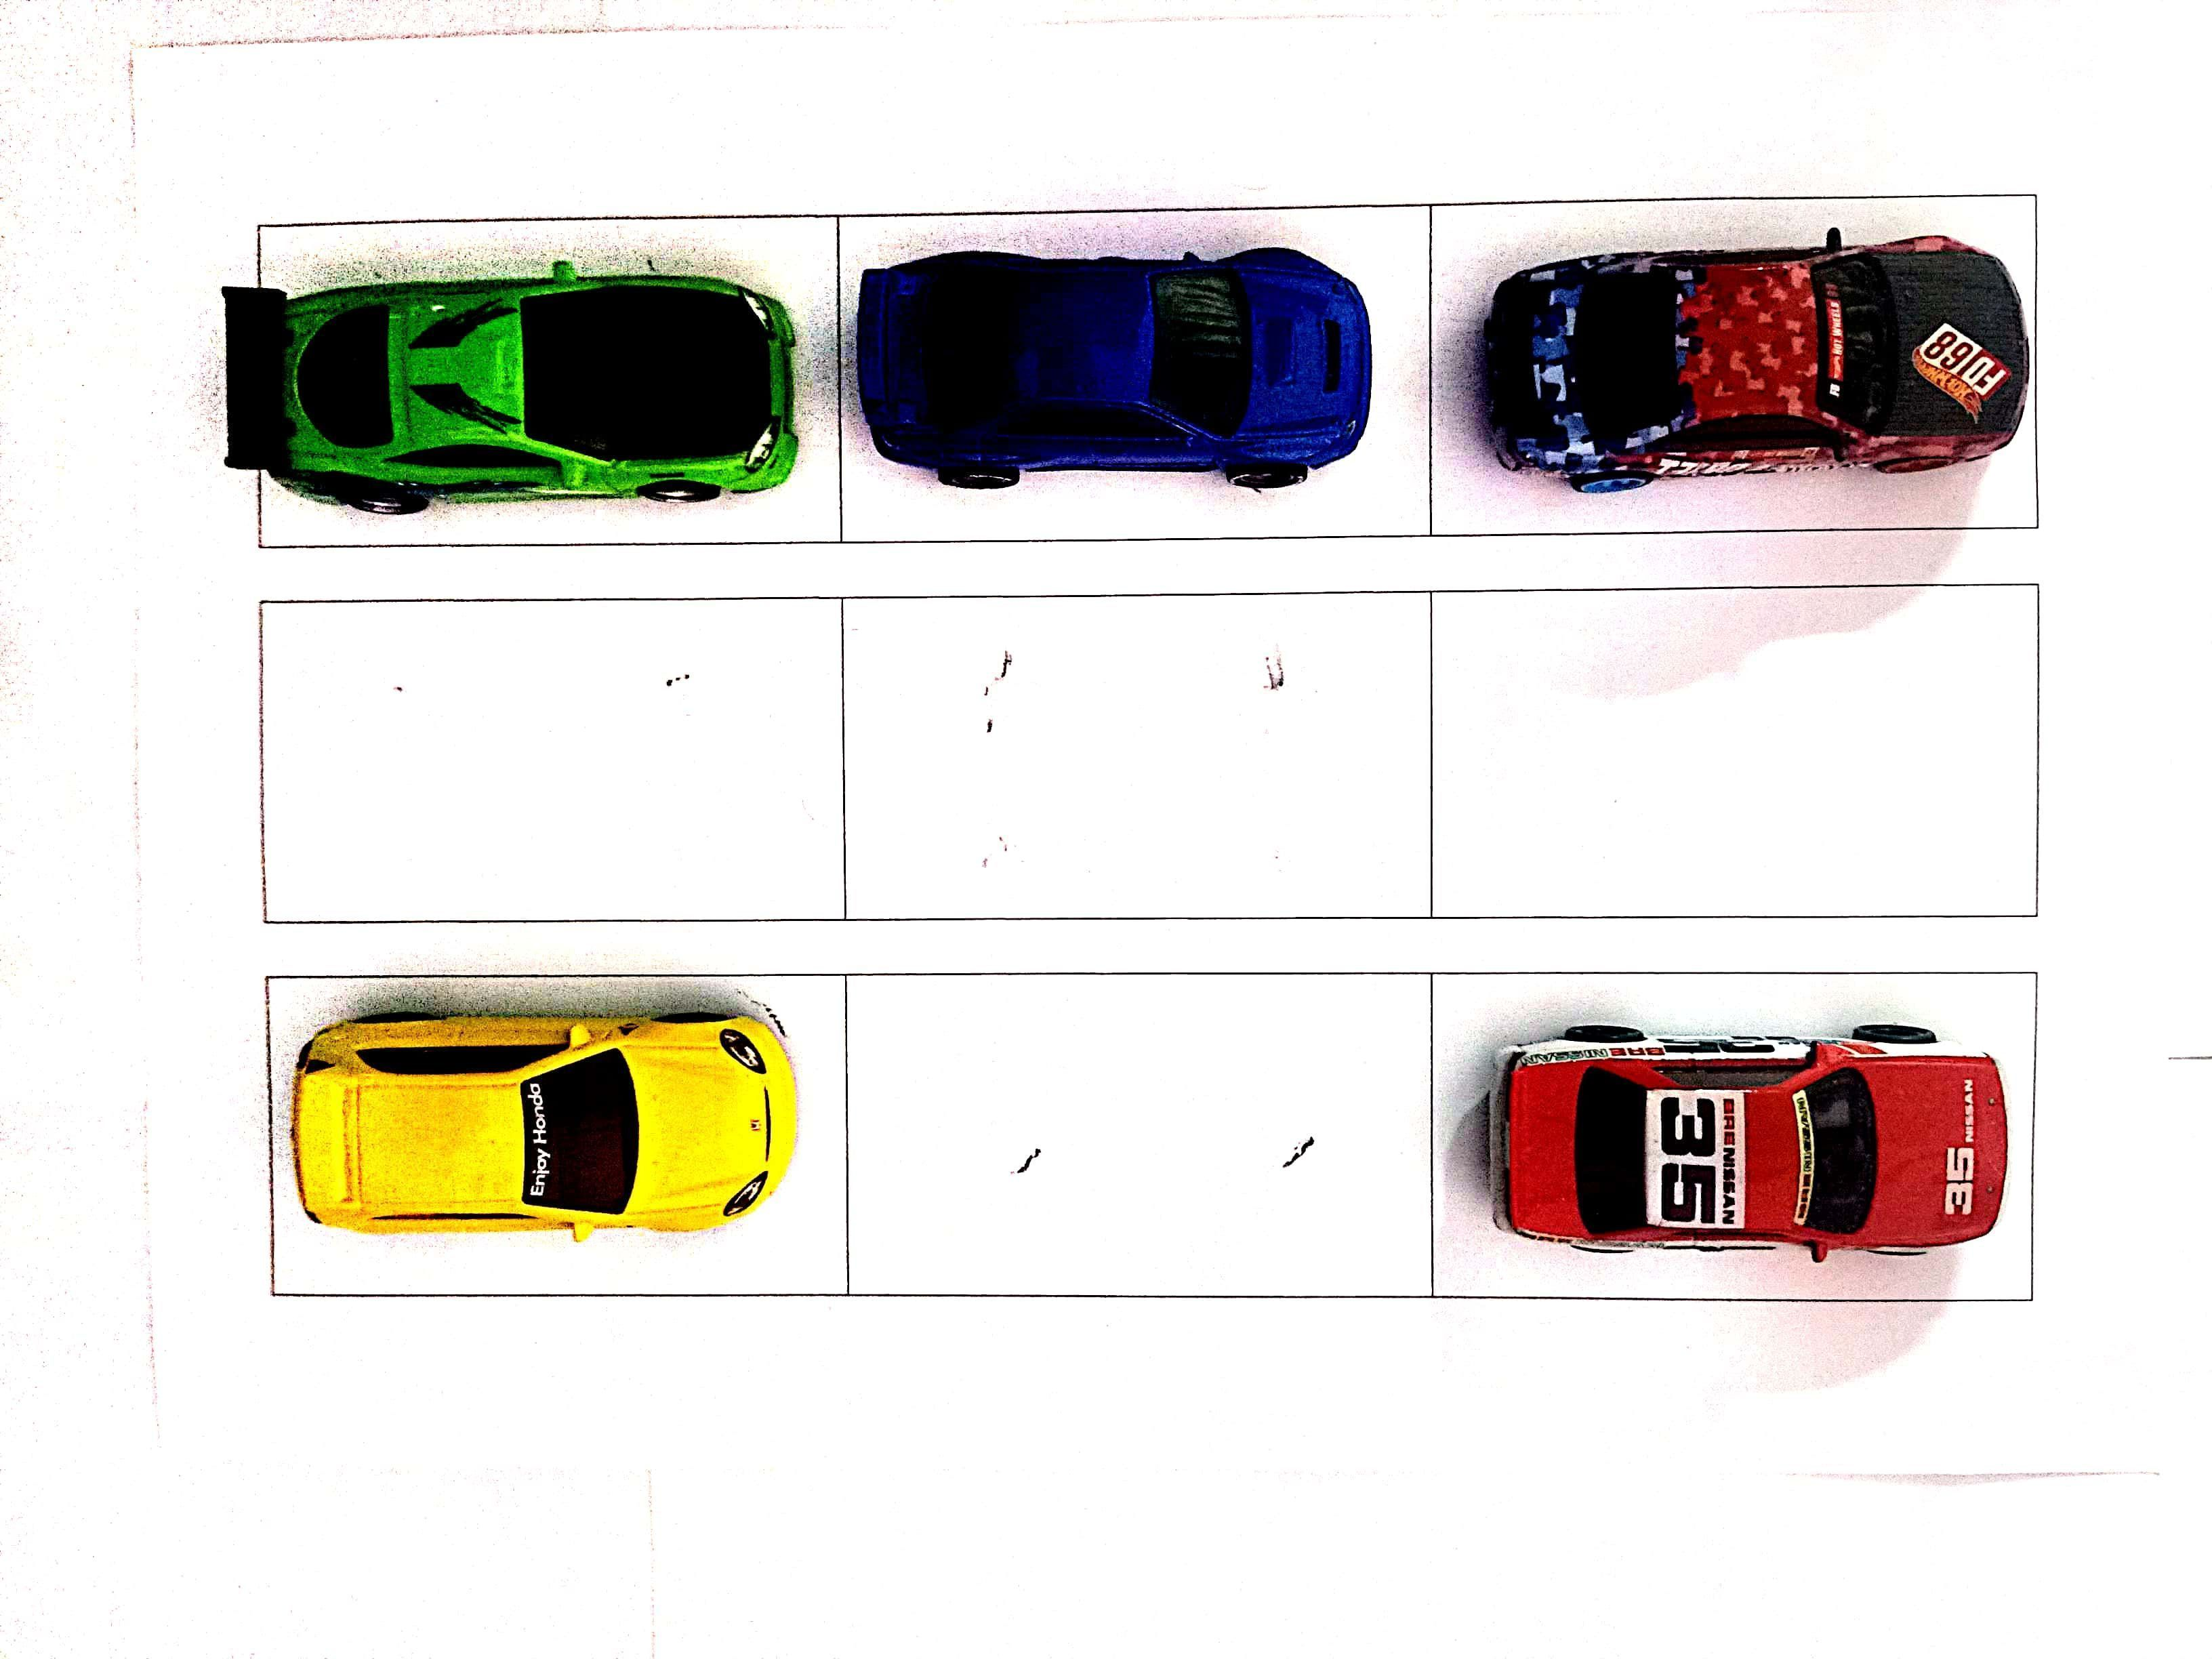Busy: (1423, 206, 2033, 530), (1433, 979, 2033, 1297), (845, 216, 1423, 533), (261, 227, 836, 545), (268, 979, 843, 1293)
Free: (1432, 586, 2033, 918), (261, 594, 843, 920), (848, 598, 1428, 920), (845, 979, 1433, 1290)
